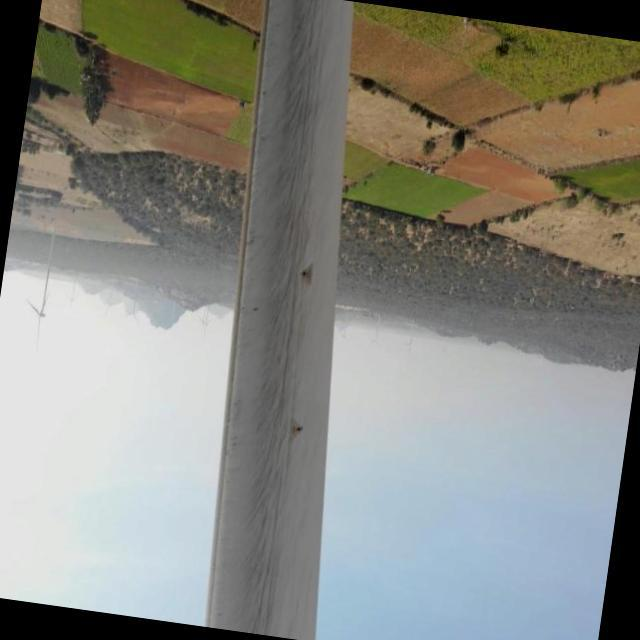Dirt: (204, 0, 333, 639)
Pin Hole: (299, 266, 314, 282), (295, 421, 305, 438)
